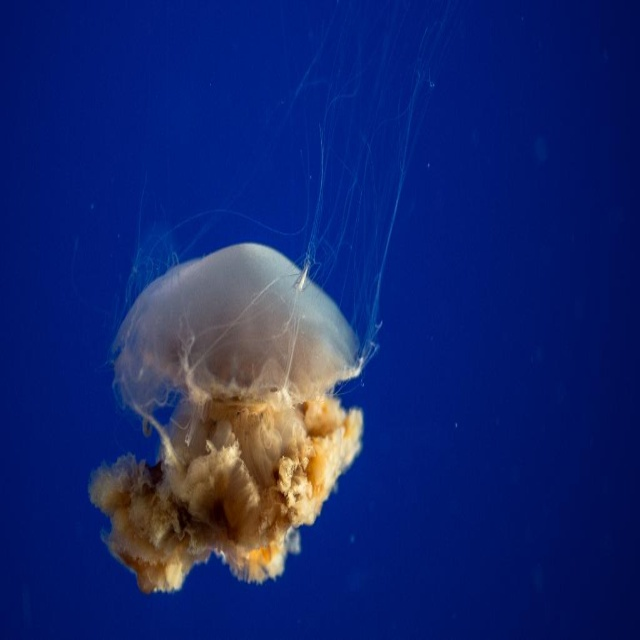Jellyfish: (103, 110, 446, 631)
